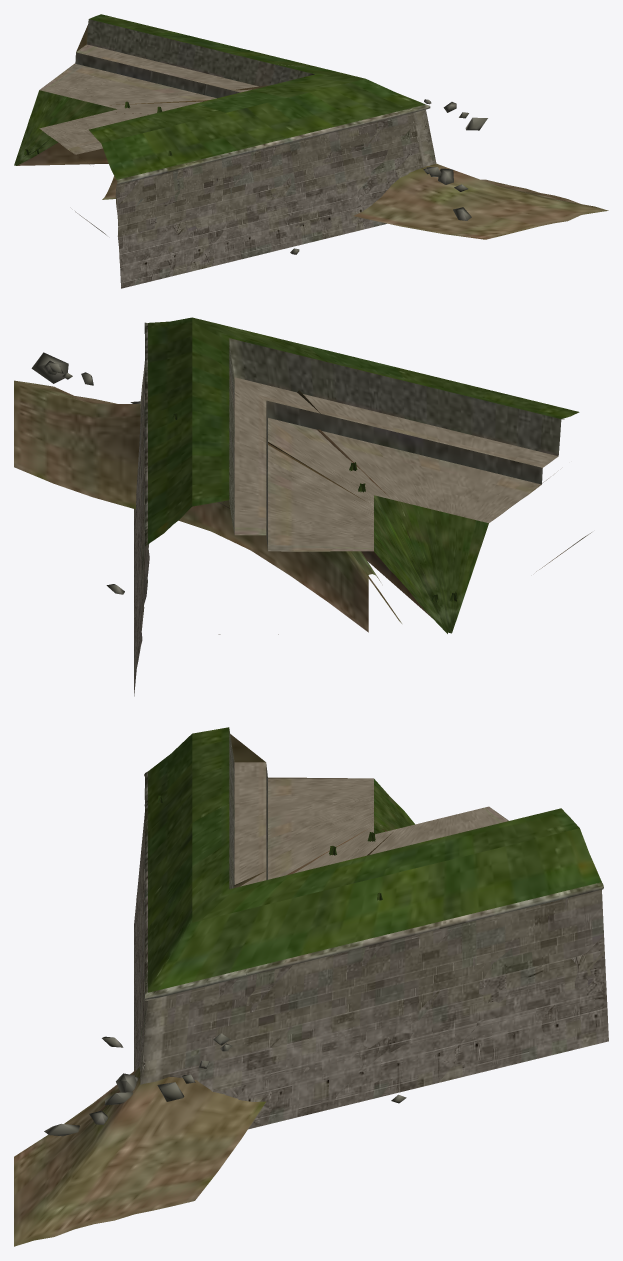
File: starfort_bastion_salient_hero.glb
3 renders of one model, top to bottom at view 1: azimuth 30°, elevation 25°; view 2: azimuth 150°, elevation 25°; view 3: azimuth 270°, elevation 25°, orthographic. The views are drawn at different scales.
Visible parts, largest first — view 1: intact, breached, cracked; view 2: breached, intact, cracked; view 3: intact, breached, cracked.
Part boxes in pixels (x1=…): intact: x1=14, y1=19, x2=436, y2=288; breached: x1=17, y1=14, x2=608, y2=288; cracked: x1=19, y1=19, x2=434, y2=285; breached: x1=14, y1=345, x2=578, y2=689; intact: x1=134, y1=317, x2=568, y2=694; cracked: x1=106, y1=317, x2=579, y2=695; intact: x1=134, y1=727, x2=608, y2=1112; breached: x1=14, y1=733, x2=607, y2=1246; cracked: x1=102, y1=728, x2=608, y2=1129.
Size of what is drawn, in the model's own units: 21.48 by 6.27 by 16.86.
Materials: 2 (2 with a texture image).
